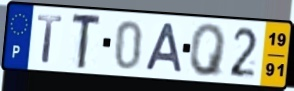0: (114, 18, 146, 71)
2: (230, 26, 259, 80)
A: (143, 21, 184, 74)
Q: (188, 22, 228, 78)
T: (70, 13, 103, 71), (36, 13, 65, 65)
